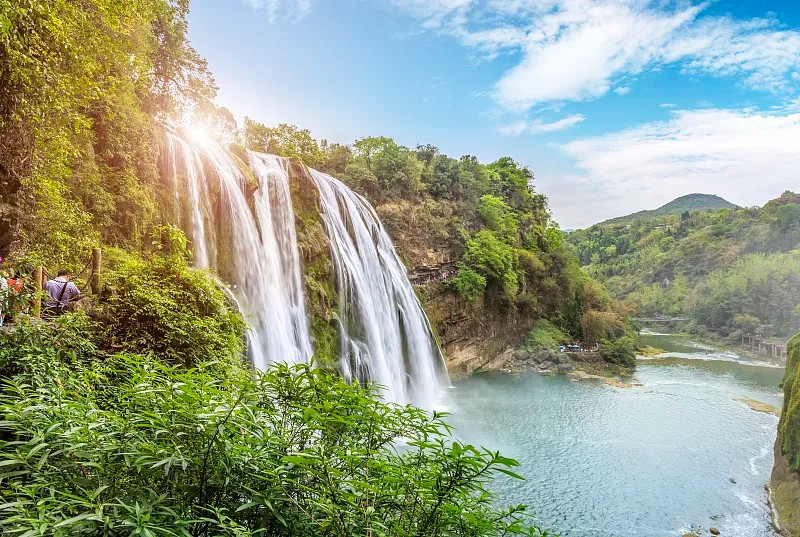Huangguoshu: (159, 119, 455, 411)
